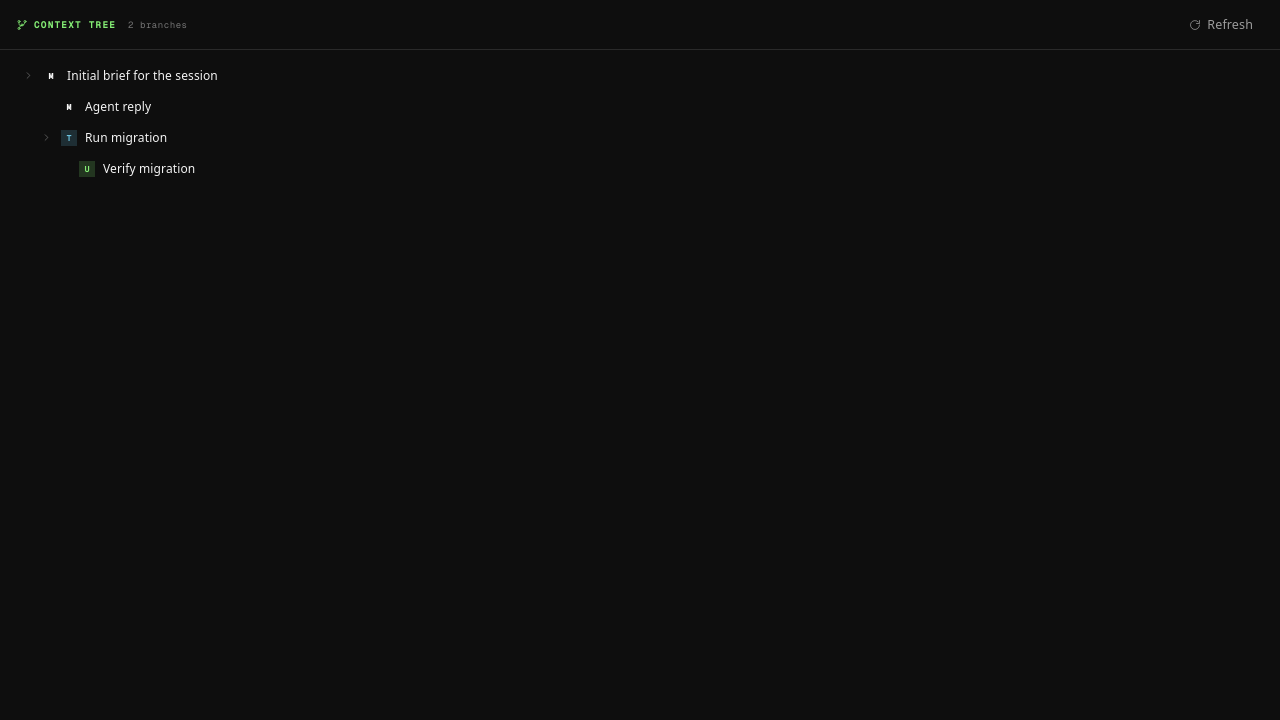
it: SessionTree › previews a node and continues from it via navigateTree
The width and height of the screenshot is (1280, 720).
Expected: the text "2 branches" is shown, [128,18,188,30]
Step 1. Click the button "M Initial brief for the session" → (142, 76), box [8,60,1272,91]
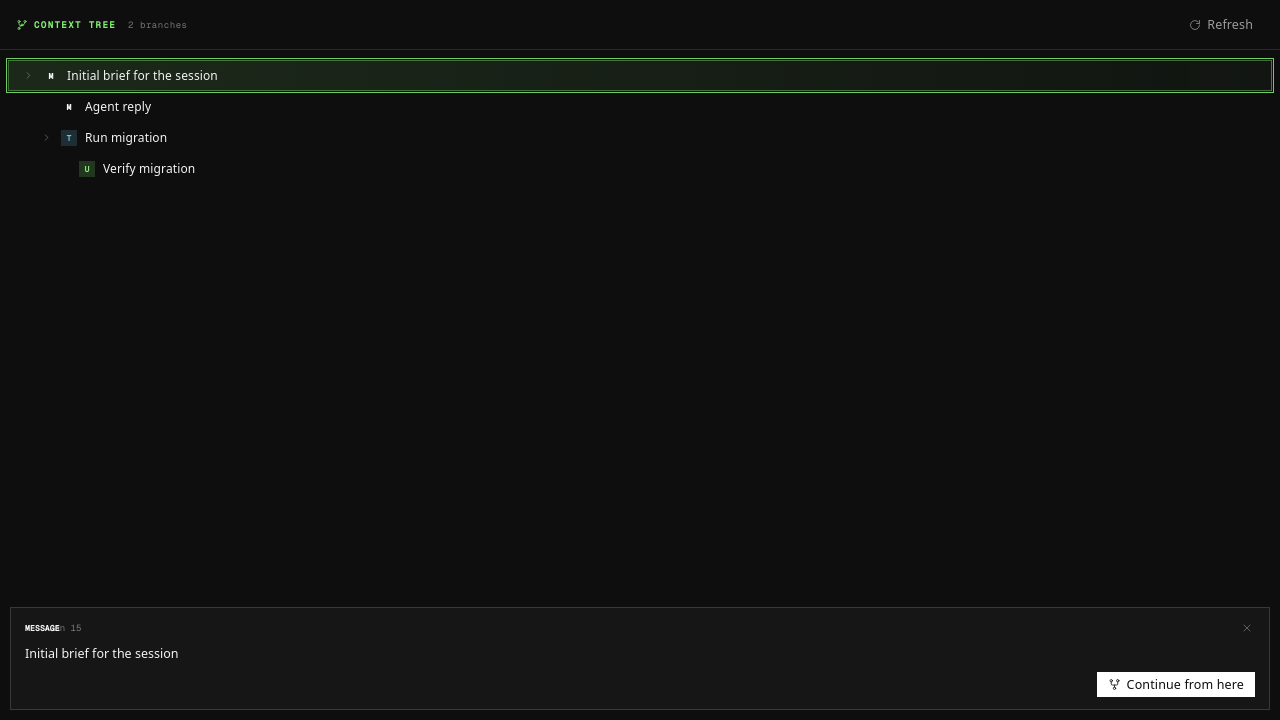
Now the button "Continue from here" is shown
Step 2. Click the button "Continue from here" → (1176, 684), box [1097,672,1255,697]
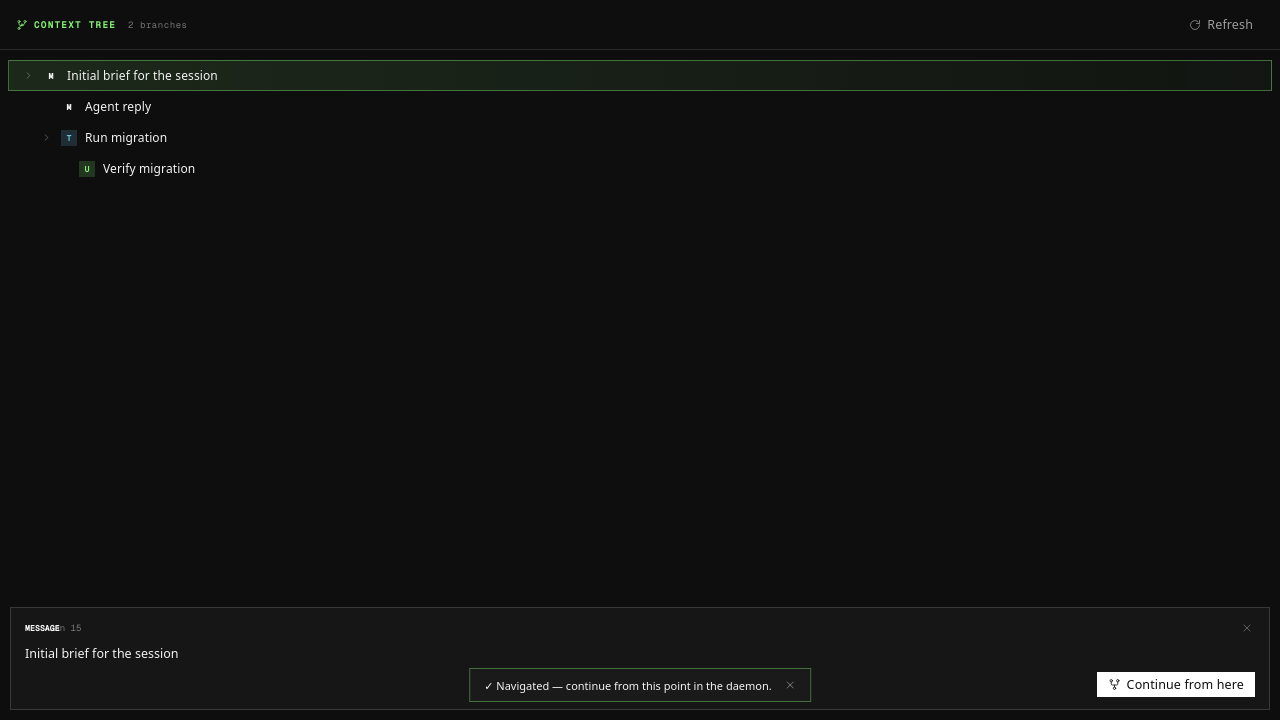
Now the text "✓ Navigated — continue from this point in the daemon." is shown, box [484,678,772,692]
